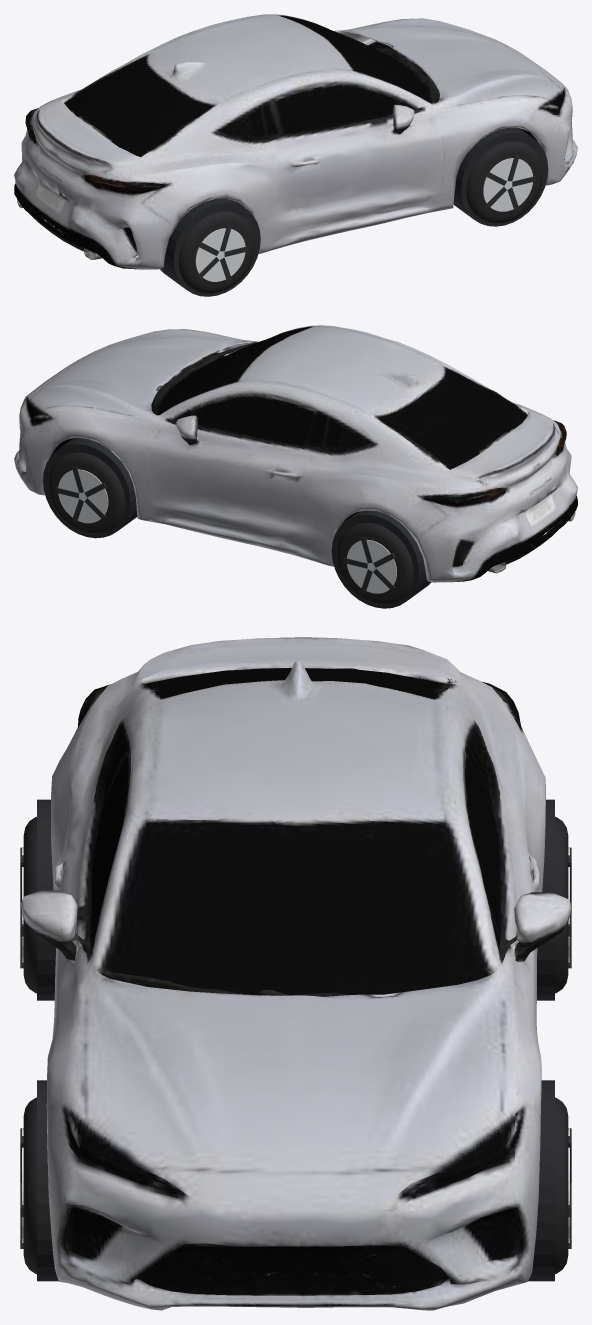
Rendered from coupe.glb.
3 views of the same model, one above another, from view 1: azimuth 30°, elevation 25°; view 2: azimuth 150°, elevation 25°; view 3: azimuth 270°, elevation 25° (orthographic). The views are drawn at different scales.
Parts seen in each view (by area): view 1: Body, Wheel_RR, Wheel_FR, Liner_RR, Liner_FR; view 2: Body, Wheel_FL, Wheel_RL, Liner_FL, Liner_RL; view 3: Body, Liner_FL, Wheel_FL, Wheel_FR, Liner_FR, Liner_RR, Wheel_RR, Wheel_RL, Liner_RL.
Part boxes in pixels (x1,y1,x2,y2): Body: (14, 14, 577, 269); Wheel_RR: (178, 211, 255, 293); Wheel_FR: (466, 141, 543, 223); Liner_RR: (160, 198, 260, 296); Liner_FR: (453, 127, 548, 226); Body: (14, 325, 577, 582); Wheel_FL: (48, 452, 125, 535); Wheel_RL: (336, 523, 413, 605); Liner_FL: (43, 437, 137, 538); Liner_RL: (331, 510, 431, 608); Body: (21, 637, 570, 1310); Liner_FL: (528, 1080, 554, 1281); Wheel_FL: (555, 1097, 571, 1273); Wheel_FR: (20, 1097, 36, 1273); Liner_FR: (37, 1080, 58, 1281); Liner_RR: (37, 799, 55, 1000); Wheel_RR: (20, 817, 36, 993); Wheel_RL: (555, 817, 571, 993); Liner_RL: (537, 799, 554, 1000).
Bounding box in the file's own units: 2.08 × 0.7024 × 0.9876.
5 materials, 1 textured.
